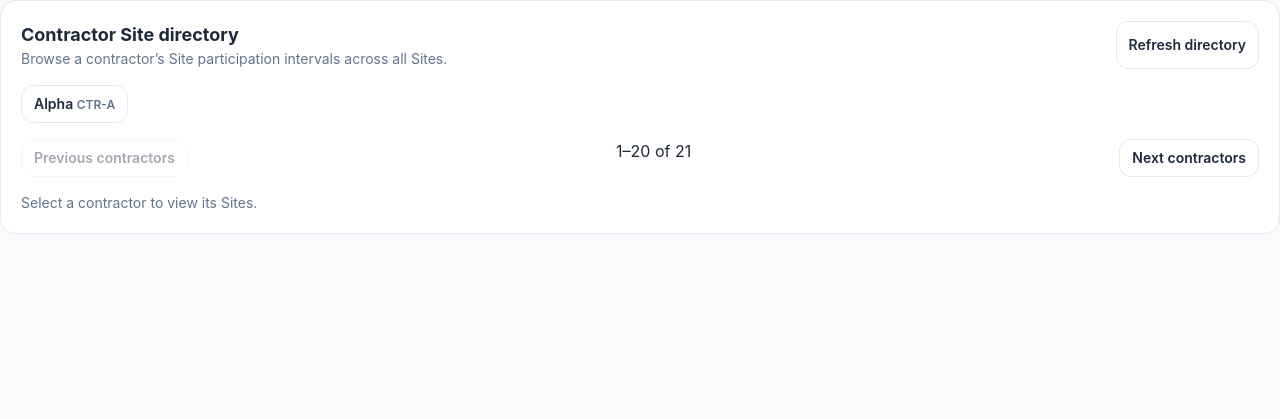
Test: Admin selects a contractor and pages Site intervals; switching contractor pages clears stale Site details
Click the button "Alpha CTR-A" at {"x": 75, "y": 104}, box x1=21 y1=85 x2=128 y2=123
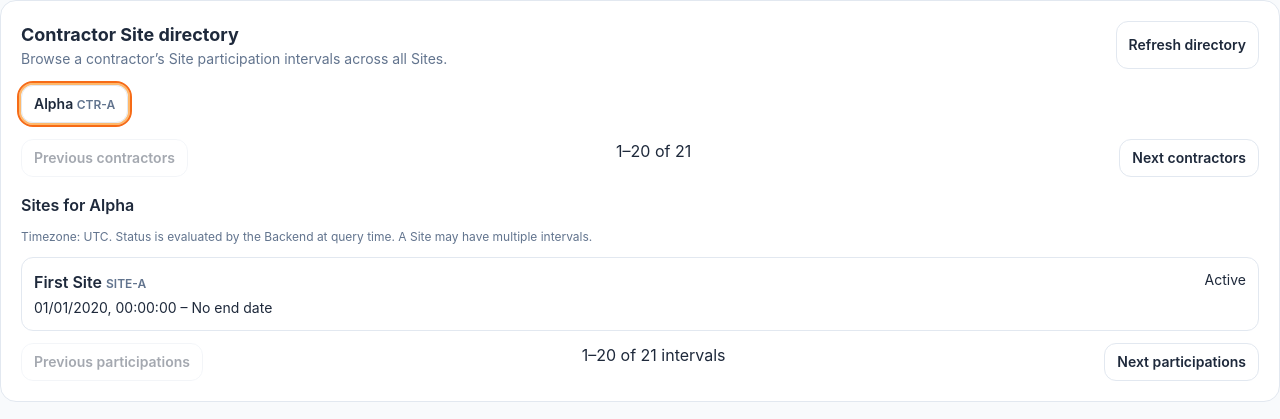
Expected: the text "No end date" is shown, x1=191 y1=299 x2=272 y2=316
Expected: the text "Active" is shown, x1=1205 y1=270 x2=1246 y2=294
Click the button "Next participations" at {"x": 1182, "y": 362}, box x1=1104 y1=343 x2=1259 y2=381
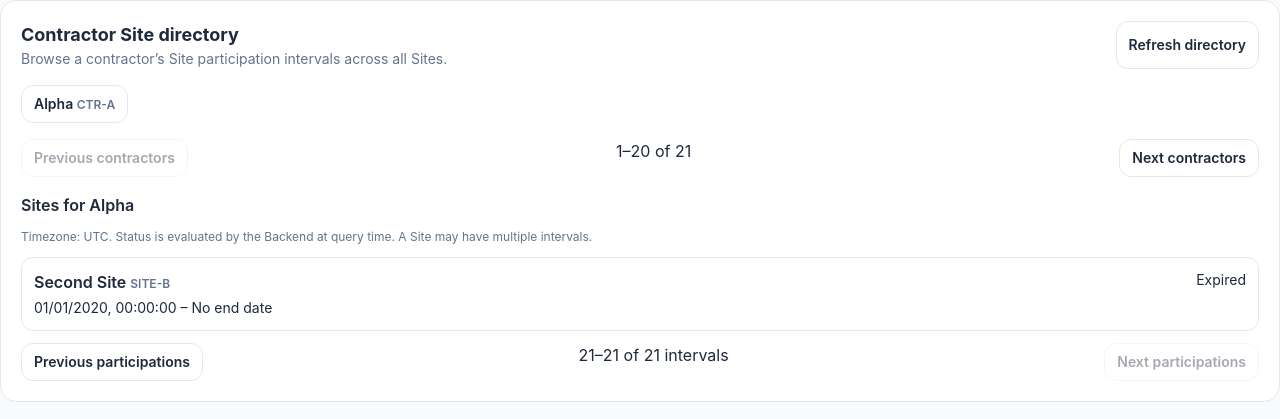
Expected: the text "Second Site" is shown, x1=34 y1=272 x2=126 y2=292
Expected: the text "First Site" is gone
Click the button "Next contractors" at {"x": 1189, "y": 158}, box x1=1119 y1=139 x2=1259 y2=177
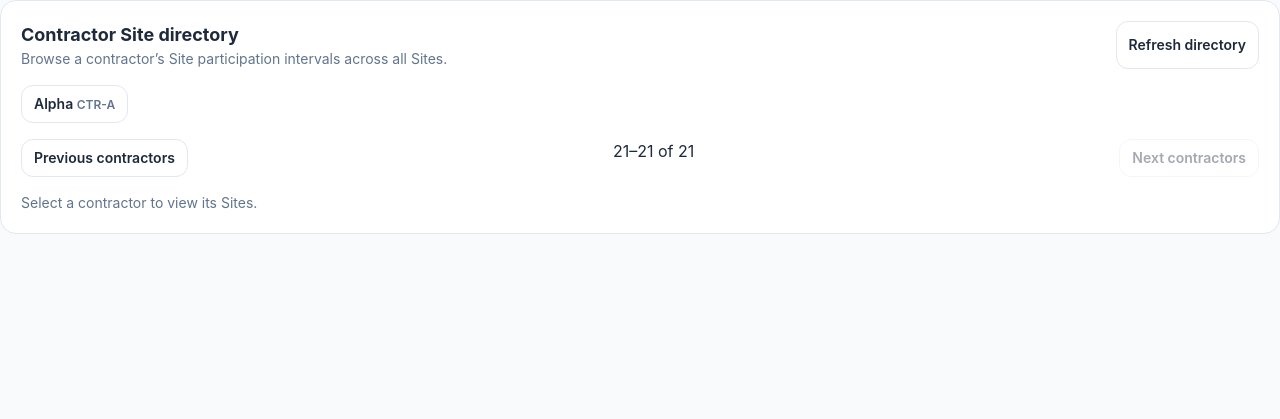
Expected: the text "Second Site" is gone
Expected: the text "Select a contractor to view its Sites." is shown, x1=21 y1=194 x2=257 y2=211
